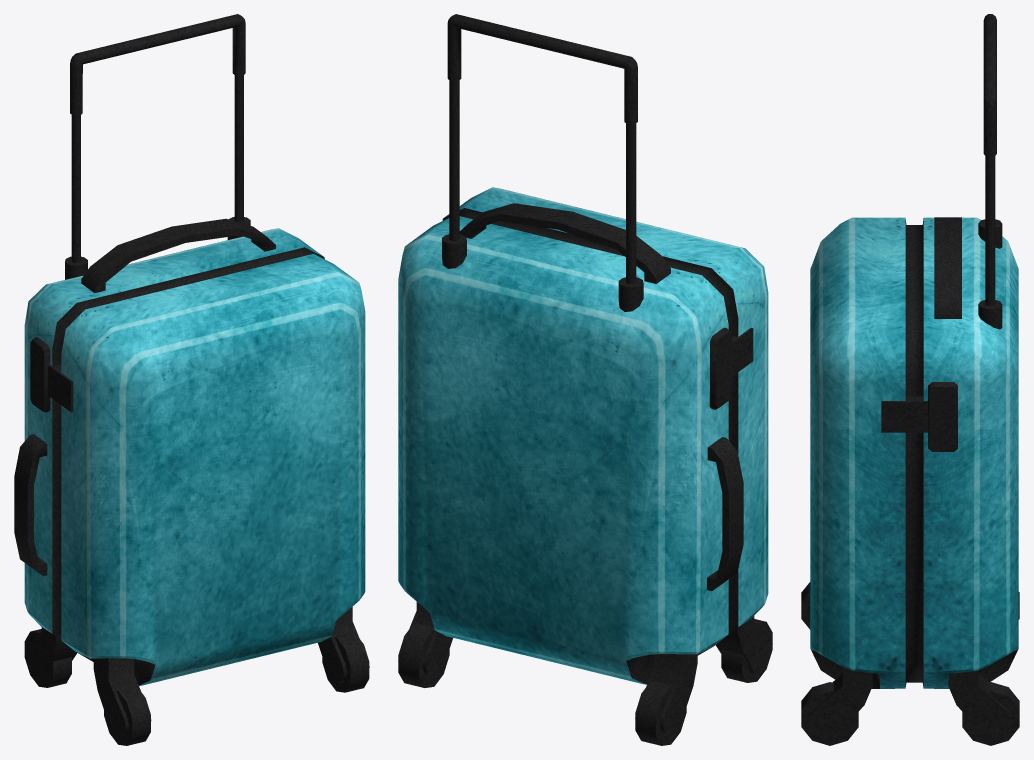
File: suitcase_1.fbx
The picture shows the model from 3 angles, left to right: view 1: azimuth 30°, elevation 25°; view 2: azimuth 150°, elevation 25°; view 3: azimuth 270°, elevation 25°; orthographic projection. The views are drawn at different scales.
Visible parts, largest first — view 1: suitcase_1; view 2: suitcase_1; view 3: suitcase_1.
Boxes of the visible parts, bbox=[...] form: suitcase_1: bbox=[14, 14, 369, 745]; suitcase_1: bbox=[398, 14, 772, 745]; suitcase_1: bbox=[801, 14, 1019, 745].
Bounding box in the file's own units: 0.7689 × 1.52 × 0.4749.
